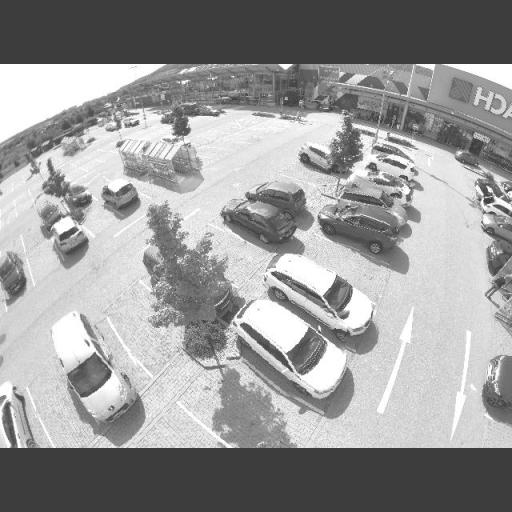busy: (224, 300, 347, 399), (38, 310, 140, 426), (265, 254, 380, 336), (320, 203, 398, 247), (224, 200, 296, 242), (477, 347, 512, 422), (0, 381, 35, 448), (335, 183, 401, 217), (351, 172, 414, 204), (249, 182, 309, 212), (50, 215, 89, 254), (0, 247, 26, 298), (99, 178, 141, 209), (296, 142, 336, 173), (366, 155, 415, 176), (483, 218, 512, 246), (65, 182, 92, 208), (36, 200, 62, 226), (198, 104, 222, 117), (61, 144, 81, 158), (104, 119, 120, 132), (158, 110, 175, 122), (123, 117, 141, 128)
free: (213, 386, 275, 432), (122, 304, 176, 350), (198, 236, 238, 266), (315, 244, 360, 268), (86, 205, 116, 232), (32, 250, 62, 274), (288, 181, 322, 200), (23, 227, 47, 250), (138, 174, 166, 192), (86, 174, 108, 194), (15, 195, 36, 215), (191, 135, 211, 150), (296, 170, 320, 182), (233, 133, 253, 144), (199, 146, 219, 156), (207, 130, 223, 142), (216, 139, 235, 149), (98, 150, 112, 162), (68, 168, 80, 181), (84, 161, 97, 172)
